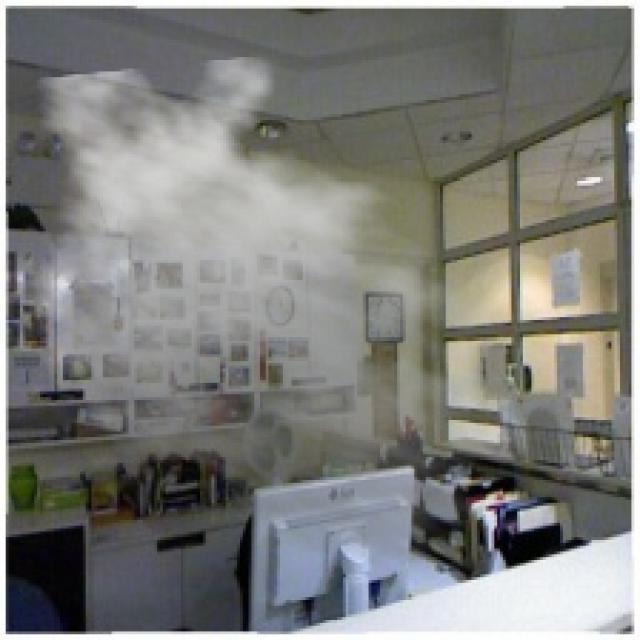Smoke: (0, 54, 540, 572)
